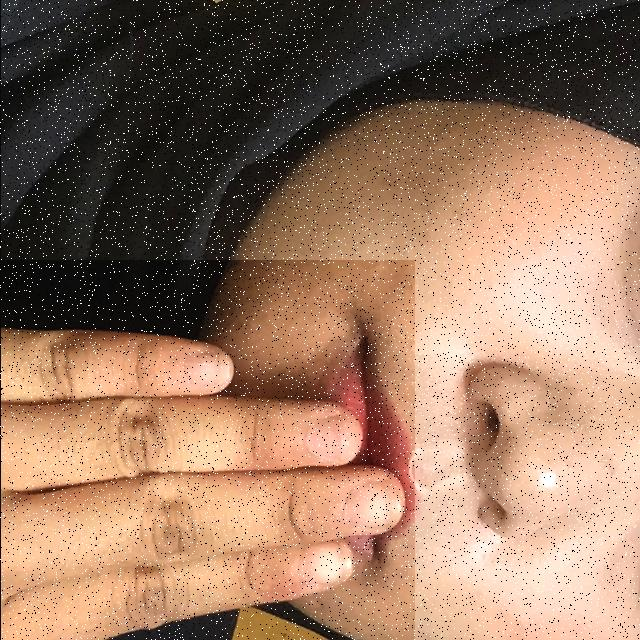ganteng: (0, 260, 414, 640)
